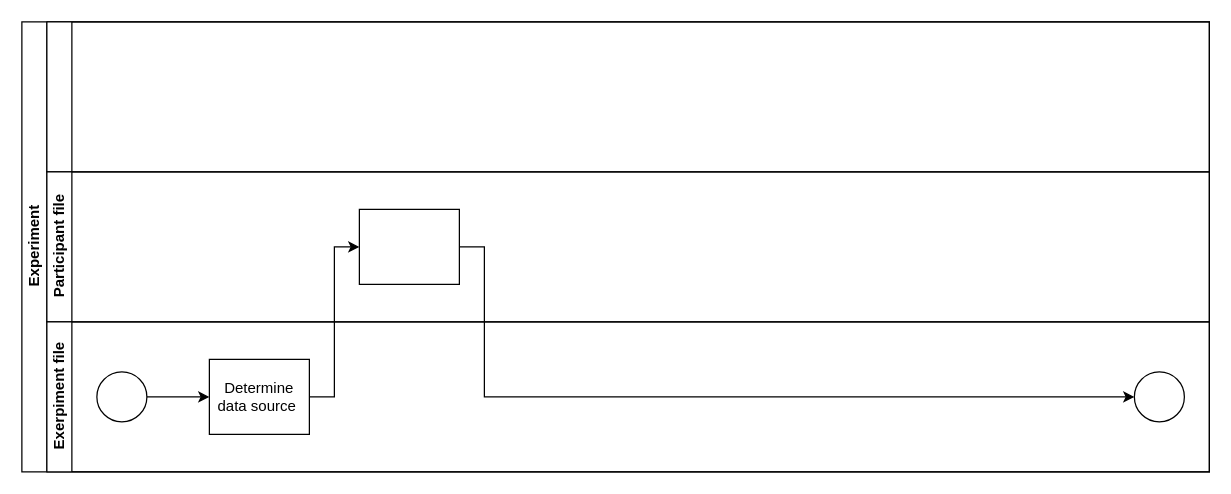
Image size: 1231x494. Some labels were removed from this diagram. The centre of each missing label's shape, as x and y in pixels:
"User" belongs at (627,96).
"Write data into participant file" belongs at (408,246).
